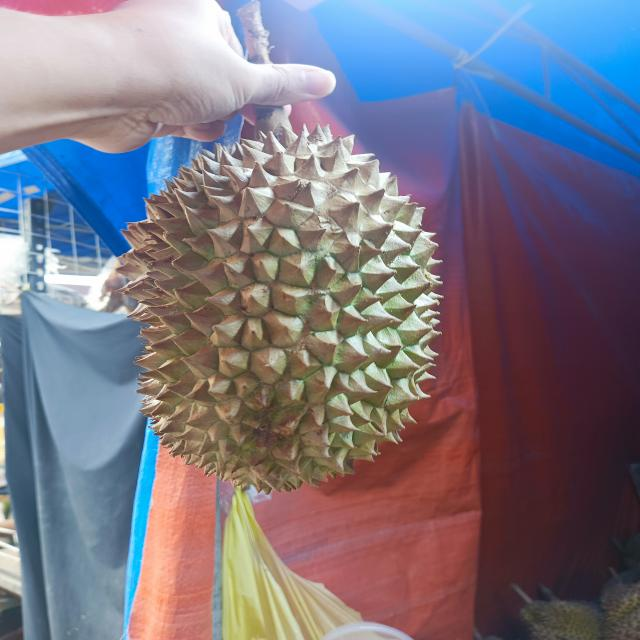mature: (115, 118, 443, 497)
